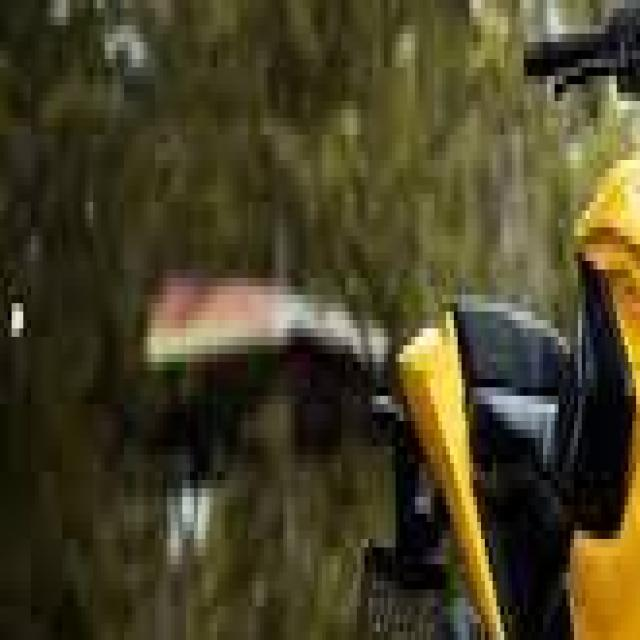bike: (310, 8, 640, 640)
